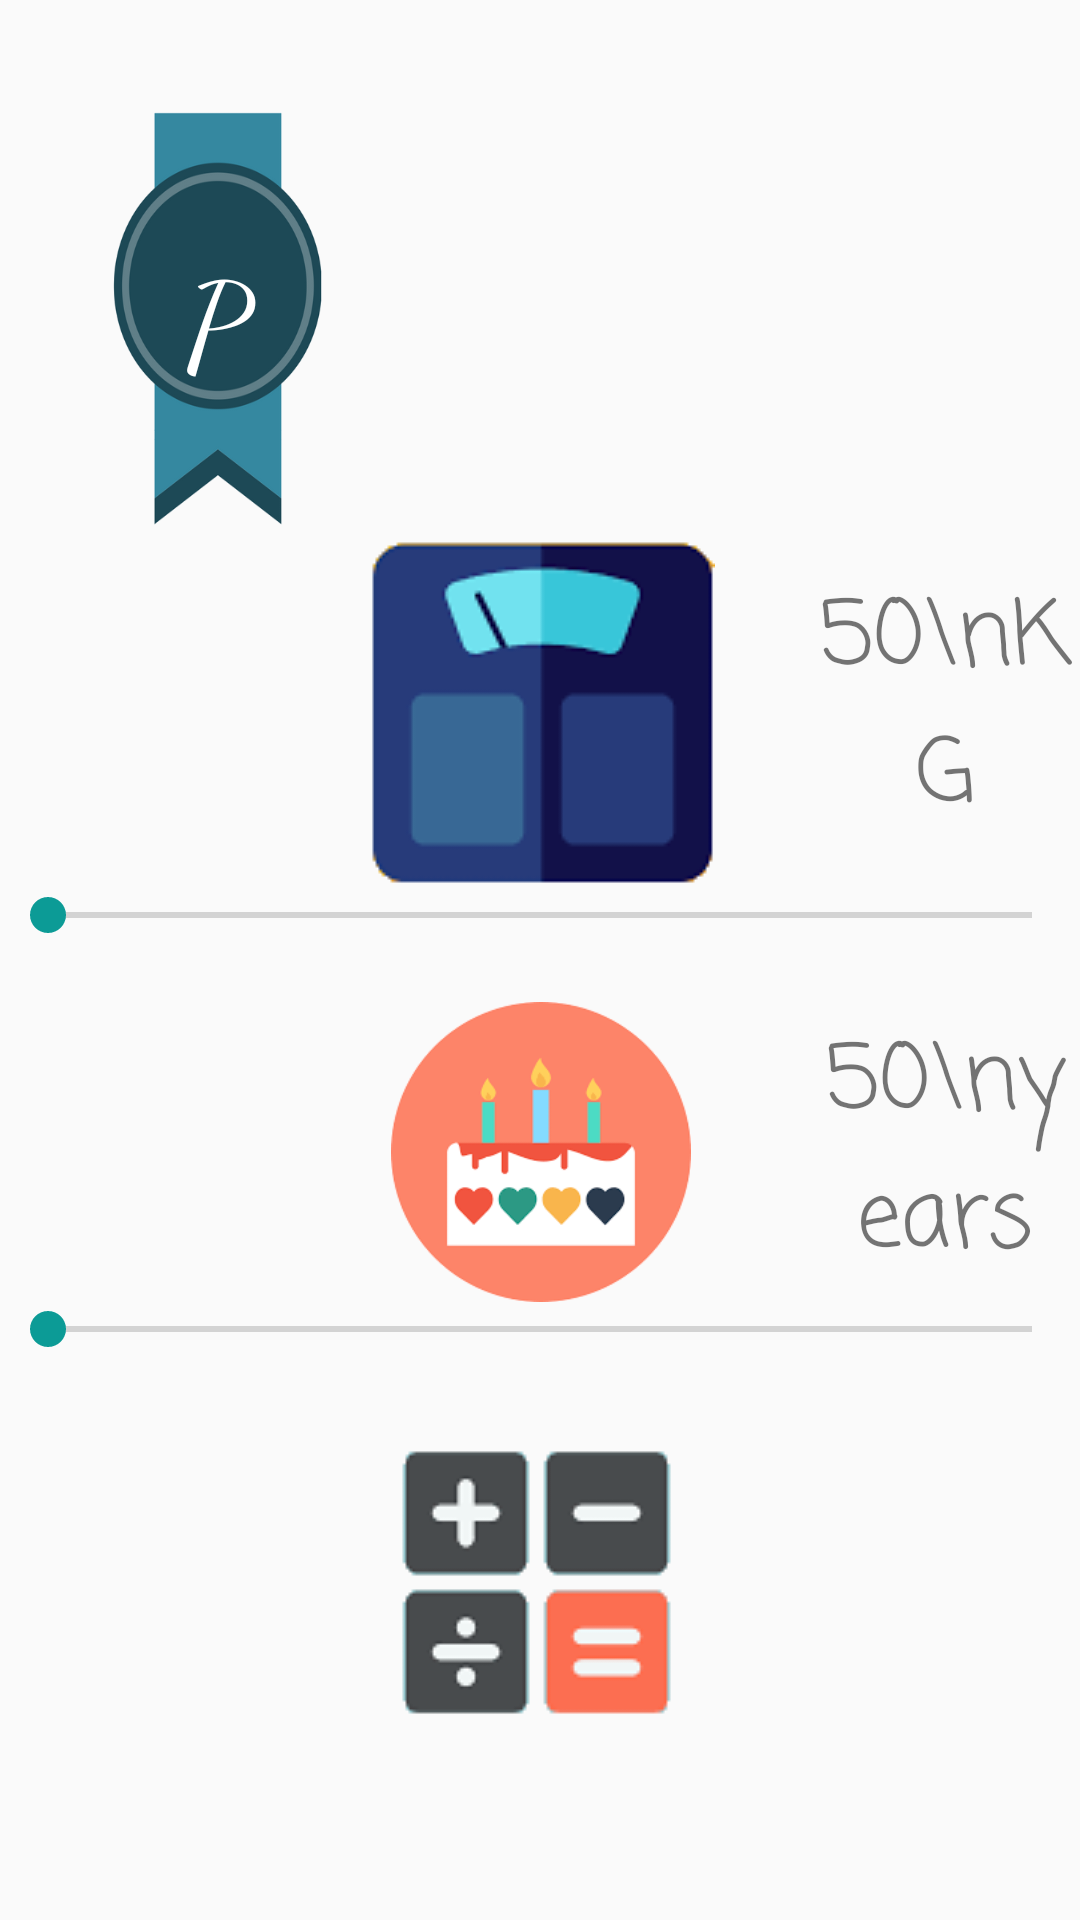

Locate icon controls on the screen. Image size 1080 × 1920, boxes as box=[x1, y1, x2, y2].
age bez: box=[391, 1002, 691, 1302]
calculate bez: box=[402, 1451, 671, 1714]
waga bez: box=[372, 542, 715, 883]
